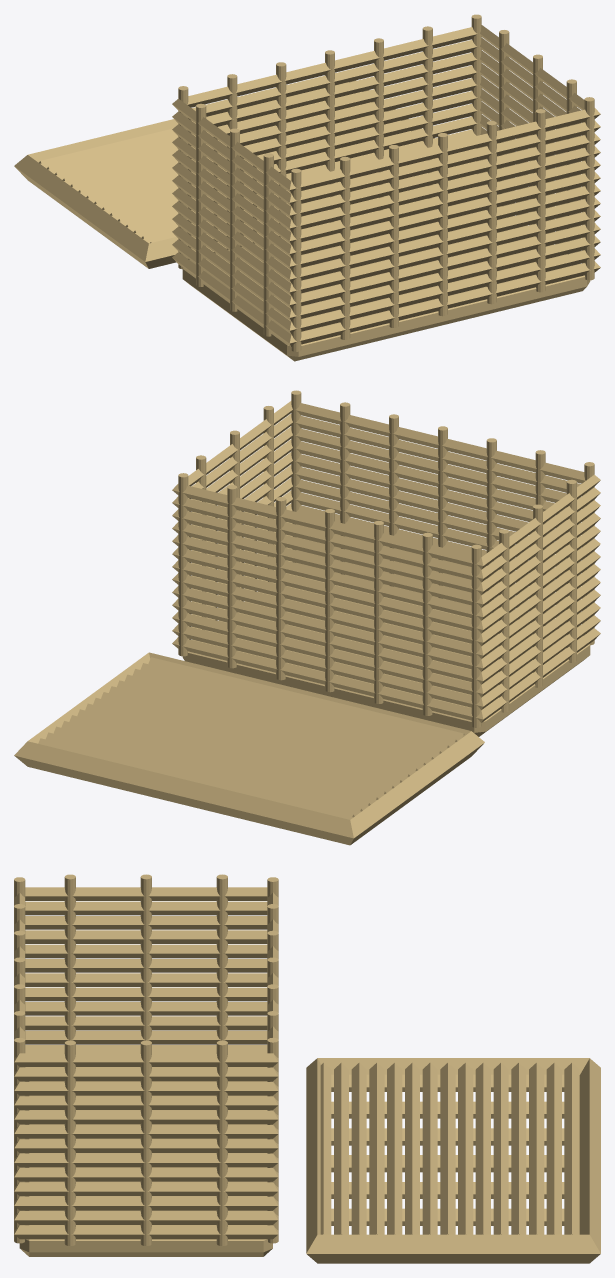
3 views of the same model, one above another, from view 1: azimuth 30°, elevation 25°; view 2: azimuth 150°, elevation 25°; view 3: azimuth 270°, elevation 25° (orthographic). The views are drawn at different scales.
Visible parts, largest first — view 1: BA-0023 batched; view 2: BA-0023 batched; view 3: BA-0023 batched.
Boxes of the visible parts, x1=… form: BA-0023 batched: x1=14, y1=14, x2=600, y2=361; BA-0023 batched: x1=14, y1=390, x2=600, y2=845; BA-0023 batched: x1=14, y1=874, x2=600, y2=1263.
Bounding box in the file's own units: 0.6954 × 0.38 × 0.9267.
